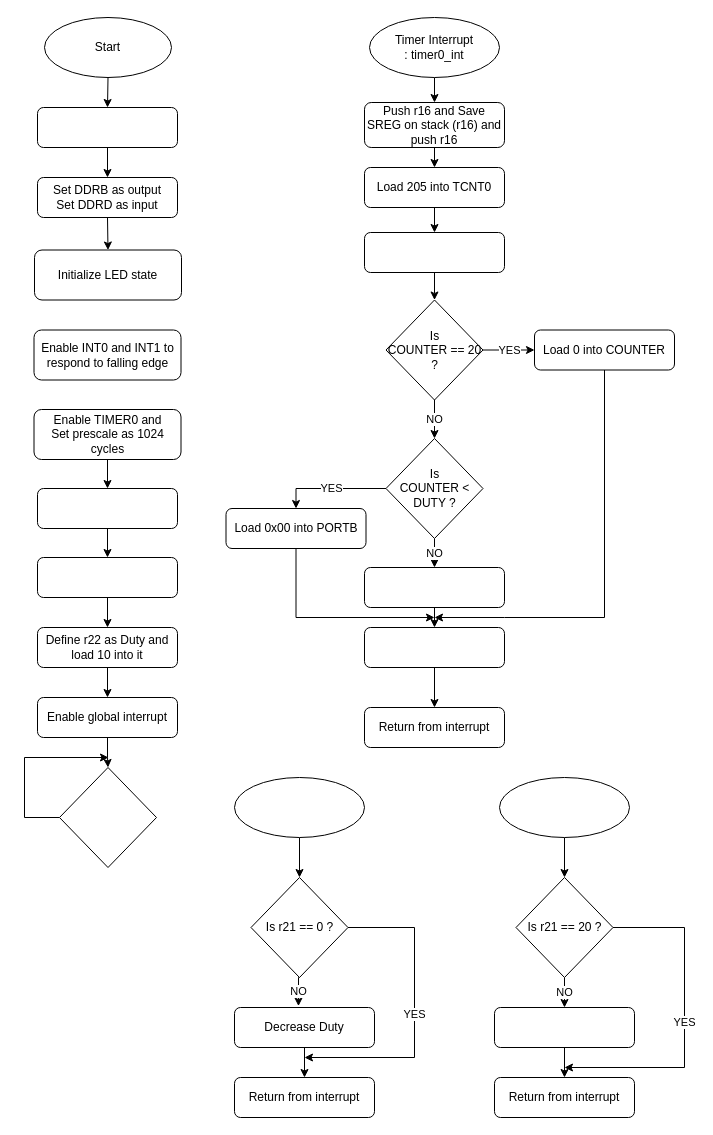
Image size: 713x1135. Some labels were removed from this diagram. The centre of each missing label's shape, as x and y in pixels:
"Define r21 as COUNTER and load 0 into it" goes at point (107, 577).
"Increment COUNTER" goes at point (434, 252).
"Increment Duty" goes at point (564, 1027).
"Initialize Stack Pointer with r16" goes at point (107, 127).
"Interrupt : DOWN" goes at point (299, 807).
"Interrupt : PLUS" goes at point (564, 807).
"Load 0xFF into PORTB" goes at point (434, 587).
"main_program" goes at point (107, 817).
"Pop r16 and Restore SREG and Pop r16" goes at point (434, 647).
"Set the iniatial value of TCNT0 to 205" goes at point (107, 508).
